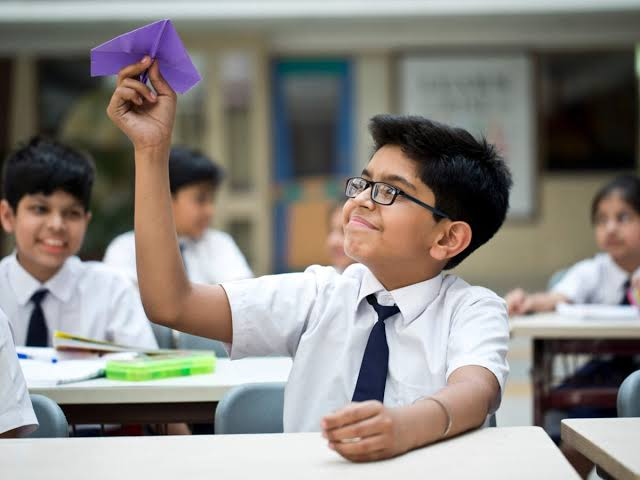student: (345, 123, 514, 272), (2, 143, 95, 261), (157, 149, 226, 244), (590, 184, 640, 261)
